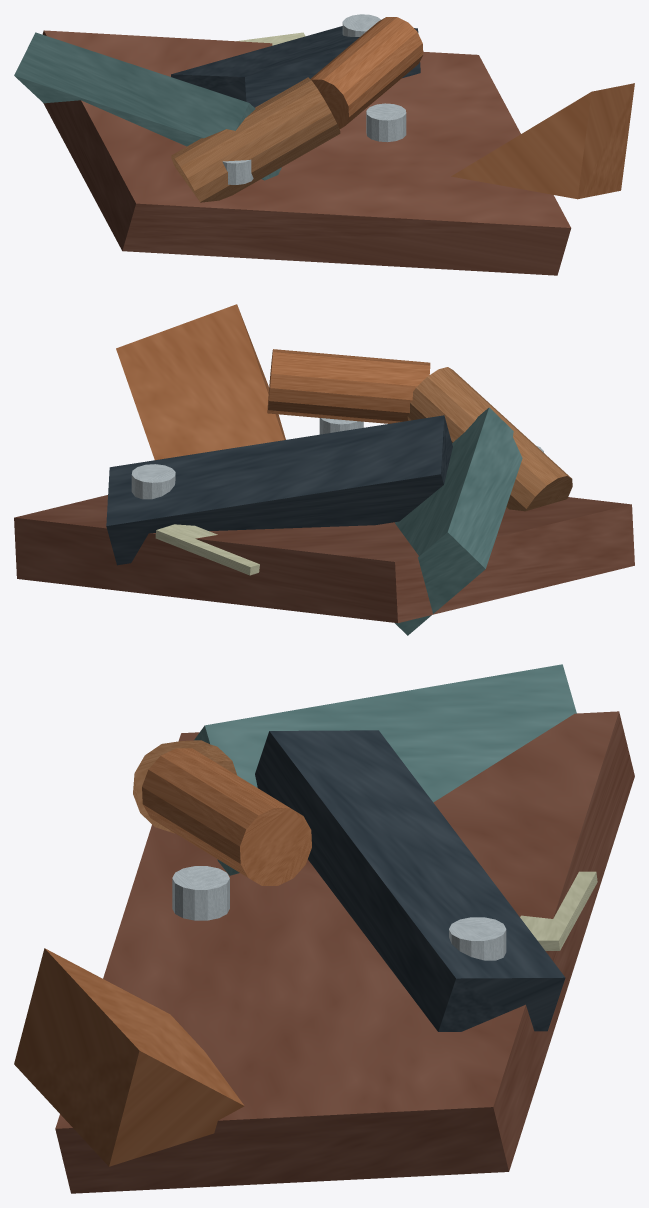
File: Chatarra_Oxidada.fbx
The picture shows the model from 3 angles, top to bottom: view 1: azimuth 30°, elevation 25°; view 2: azimuth 150°, elevation 25°; view 3: azimuth 270°, elevation 25°; orthographic projection. The views are drawn at different scales.
Visible parts, largest first — view 1: Chatarra_Oxidada; view 2: Chatarra_Oxidada; view 3: Chatarra_Oxidada.
Boxes of the visible parts, x1,y1,x2,y2 form: Chatarra_Oxidada: (14, 14, 634, 275); Chatarra_Oxidada: (14, 304, 634, 635); Chatarra_Oxidada: (14, 664, 634, 1193).
Size of the model in its own units: 1.07 by 0.8217 by 0.4733.
1 material, 1 textured.
